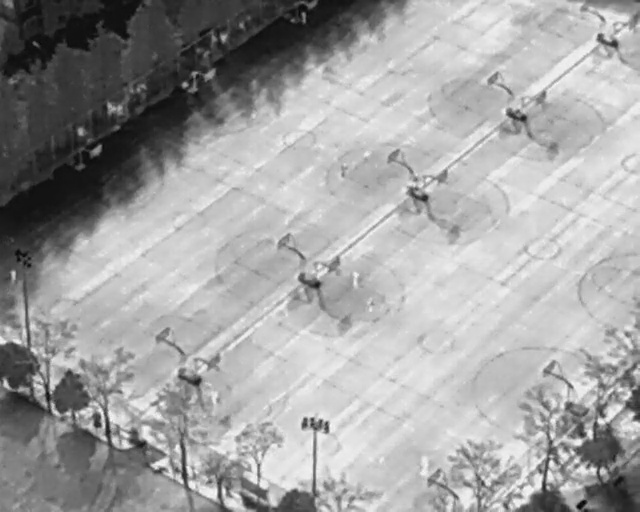Person: (419, 453, 429, 477), (350, 270, 359, 289), (367, 295, 375, 314), (9, 268, 17, 286)
